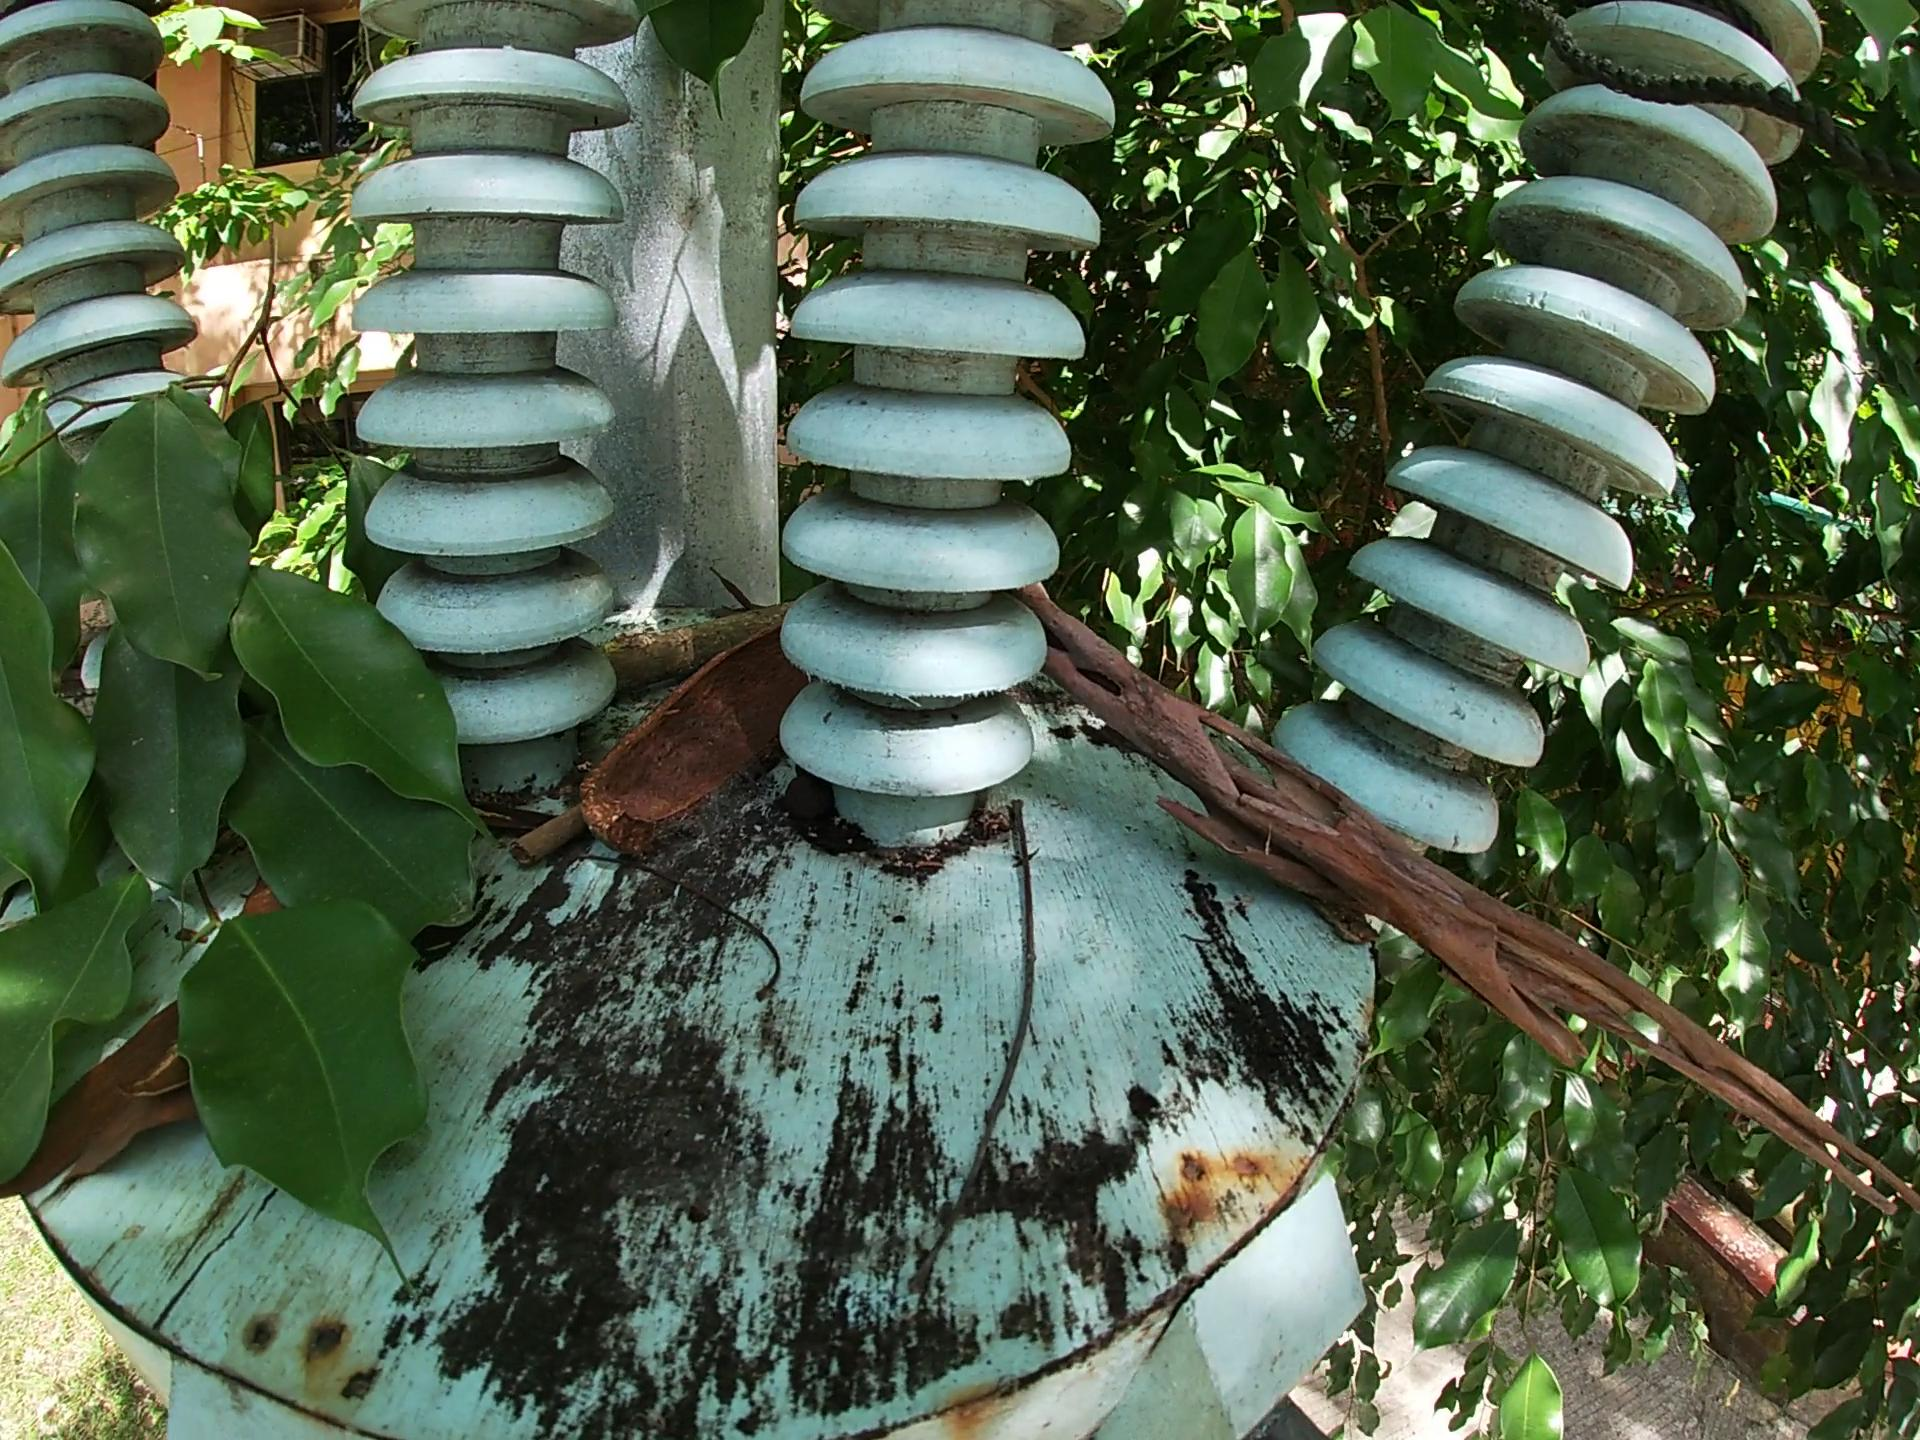branch with leaves: (2, 216, 481, 1327)
leaf: (77, 1082, 200, 1190)
mahogany fruit: (565, 629, 816, 852), (5, 985, 178, 1187)
tree branch: (1016, 557, 1920, 1221), (564, 861, 792, 1000), (962, 787, 1040, 1141), (585, 607, 788, 693), (490, 802, 588, 879)
